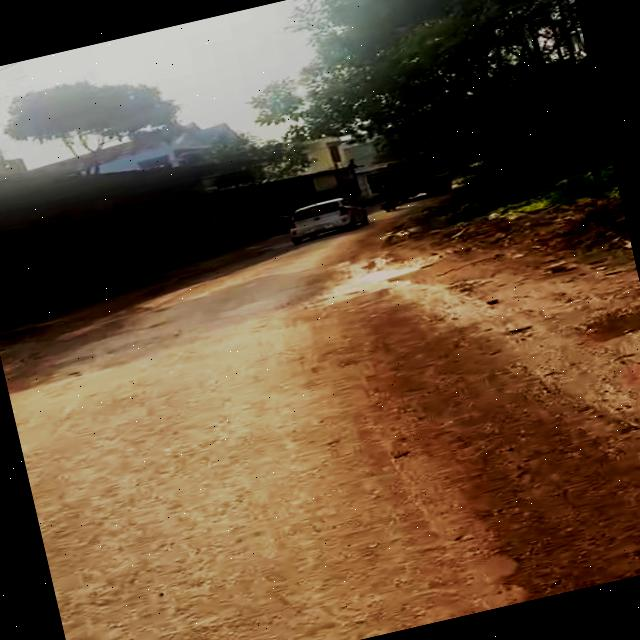pothole: (571, 295, 640, 352)
